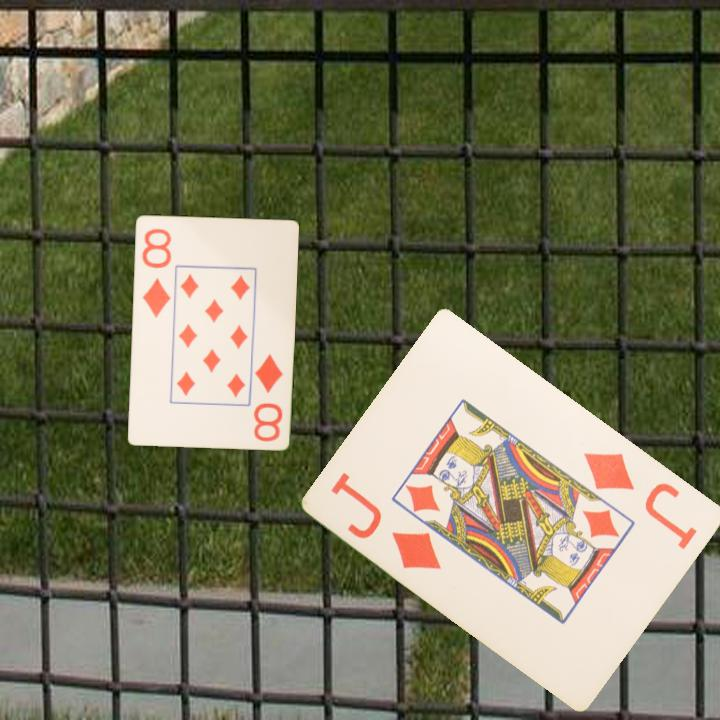8d: (138, 225, 174, 320), (250, 350, 285, 444)
Jd: (580, 448, 701, 553), (327, 468, 446, 573)
